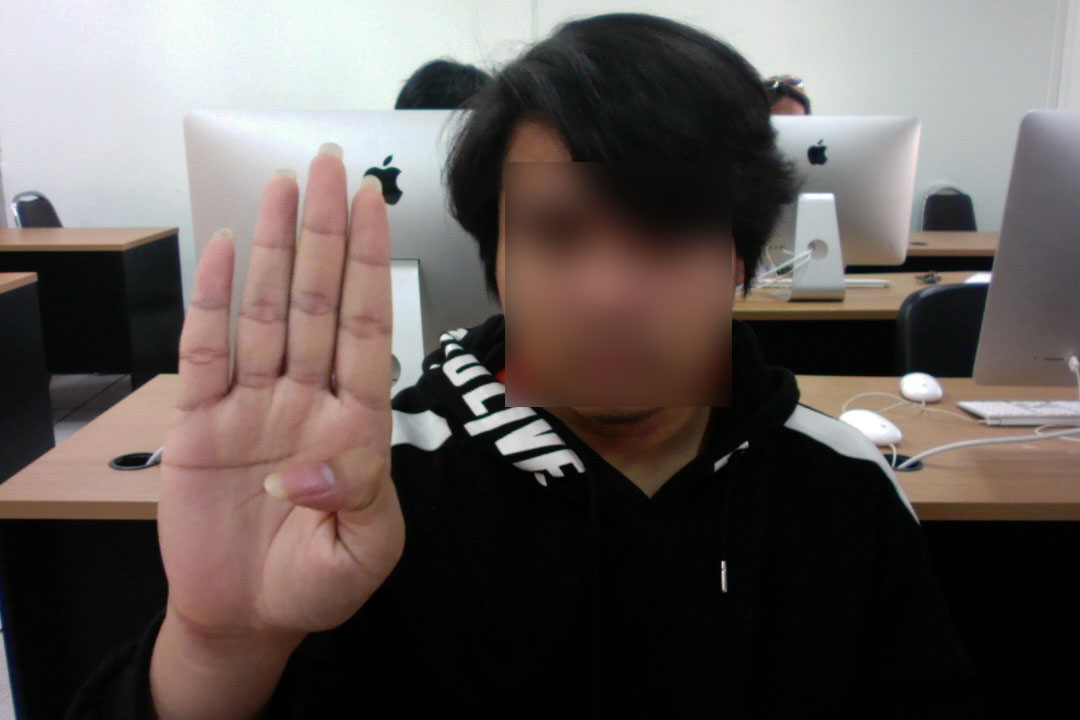bor: (141, 132, 413, 678)
